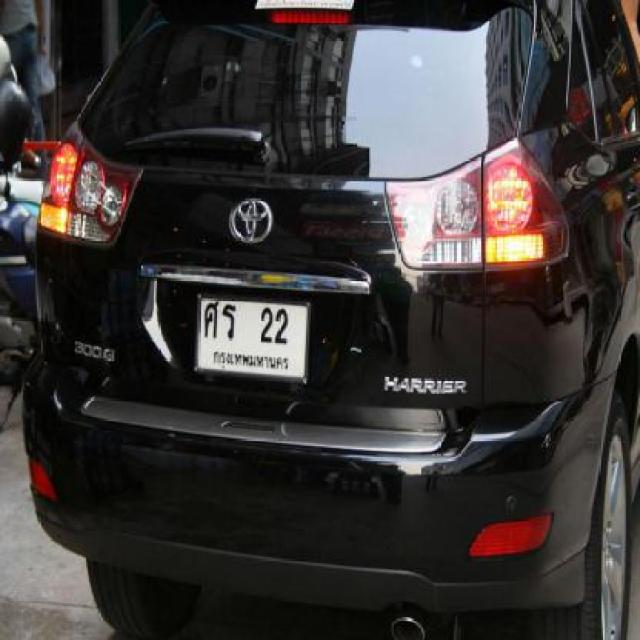License-Plates: (196, 292, 312, 384)
